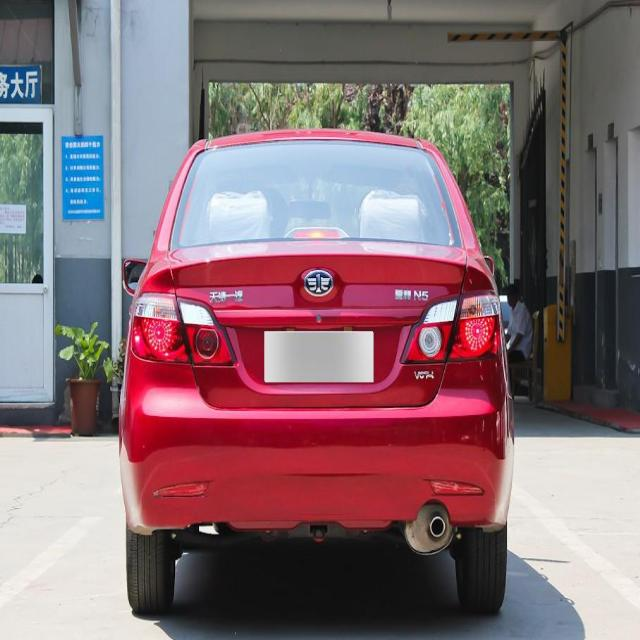back_glass: (169, 137, 465, 253)
back_left_side_light: (131, 288, 238, 369)
back_right_side_light: (400, 289, 502, 369)
front_left_side_mirror: (119, 252, 150, 298)
rear_bumper: (121, 350, 511, 530)
